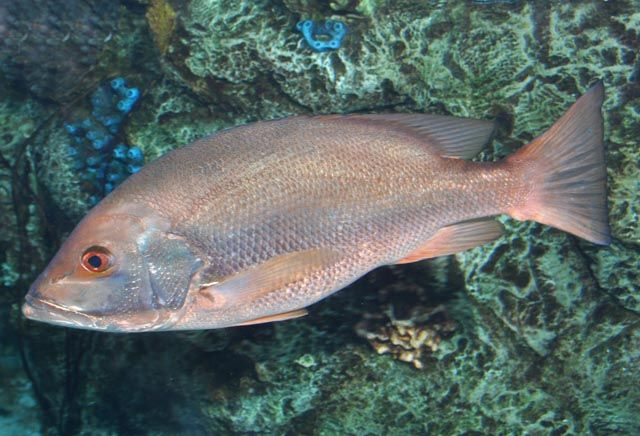fish: (21, 77, 614, 332)
